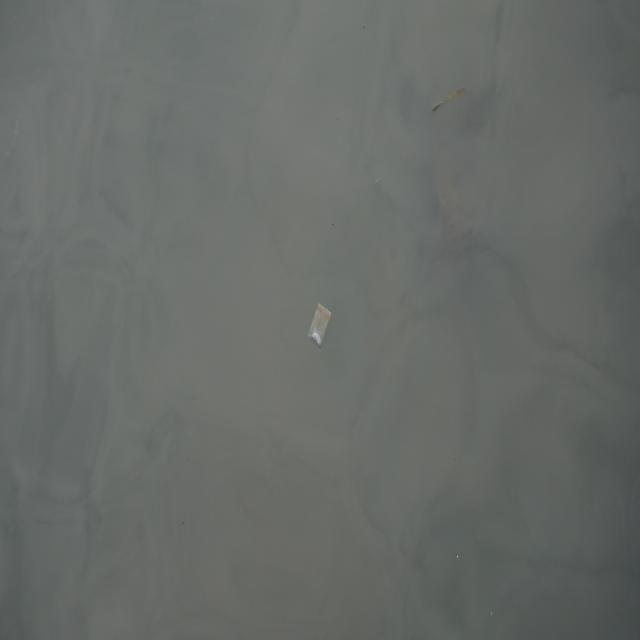Kantong Plastik: (308, 300, 333, 348)
